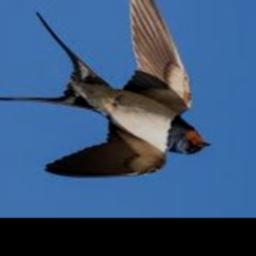Swallow: (0, 0, 211, 179)
